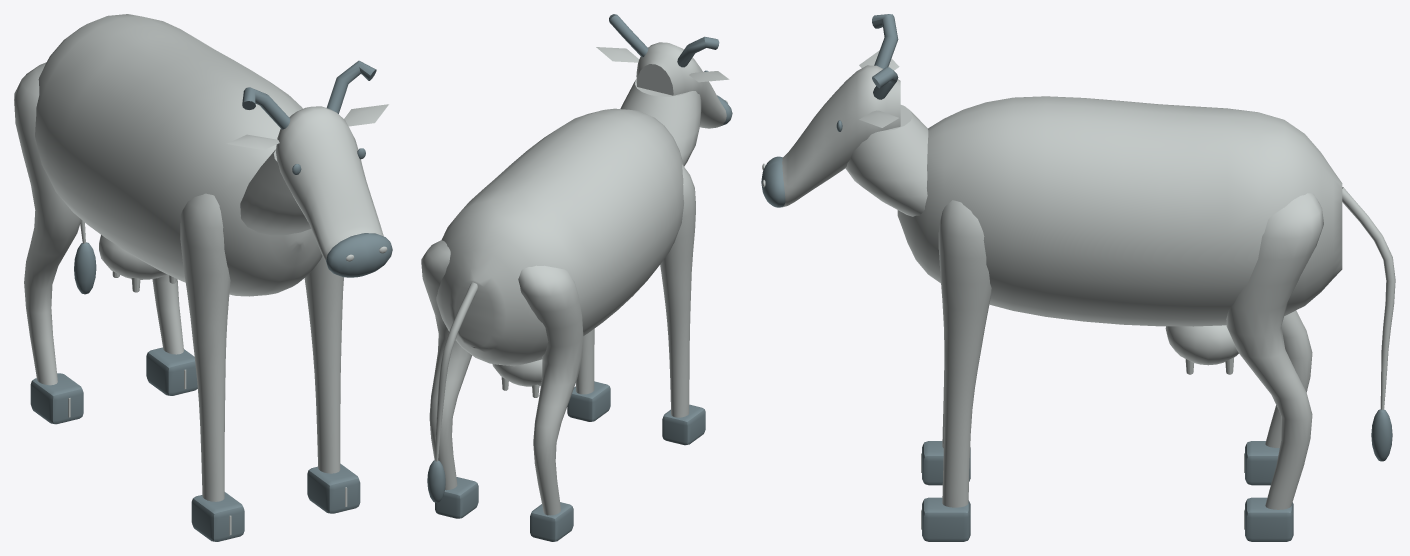
Rendered from cow.glb.
3 views of the same model, side by side, from view 1: azimuth 30°, elevation 25°; view 2: azimuth 150°, elevation 25°; view 3: azimuth 270°, elevation 25° (orthographic). The views are drawn at different scales.
Visible parts, largest first — view 1: broad_barrel, foreleg, long_face, hind_leg, foreleg.001, short_neck, broad_muzzle, cloven_hoof.001, cloven_hoof, cloven_hoof.002, cloven_hoof.003, hind_leg.001 (+6 smaller); view 2: broad_barrel, hind_leg, foreleg, hind_leg.001, long_face, short_neck, tail, cloven_hoof, cloven_hoof.001, cloven_hoof.003, cloven_hoof.002, foreleg.001 (+5 smaller); view 3: broad_barrel, hind_leg.001, foreleg.001, long_face, short_neck, udder, tail, hind_leg, cloven_hoof.002, cloven_hoof.003, cloven_hoof.001, cloven_hoof (+3 smaller).
Part boxes in pixels (x1,y1,x2,y2): broad_barrel: [35, 14, 322, 296]; foreleg: [180, 193, 230, 501]; long_face: [276, 106, 383, 263]; hind_leg: [14, 62, 81, 385]; foreleg.001: [304, 256, 343, 473]; short_neck: [240, 149, 311, 235]; broad_muzzle: [326, 233, 392, 277]; cloven_hoof.001: [30, 373, 83, 424]; cloven_hoof: [191, 492, 244, 541]; cloven_hoof.002: [307, 463, 360, 513]; cloven_hoof.003: [146, 347, 197, 395]; hind_leg.001: [152, 274, 183, 354]; broad_barrel: [436, 108, 683, 366]; hind_leg: [518, 265, 583, 515]; foreleg: [660, 164, 695, 417]; hind_leg.001: [421, 240, 471, 490]; long_face: [636, 42, 726, 128]; short_neck: [620, 79, 701, 166]; tail: [435, 282, 477, 461]; cloven_hoof: [662, 404, 705, 445]; cloven_hoof.001: [530, 502, 573, 541]; cloven_hoof.003: [435, 477, 478, 518]; cloven_hoof.002: [567, 381, 610, 421]; foreleg.001: [576, 329, 594, 394]; broad_barrel: [897, 96, 1342, 326]; hind_leg.001: [1226, 193, 1323, 509]; foreleg.001: [938, 200, 991, 507]; long_face: [782, 65, 900, 207]; short_neck: [845, 105, 928, 216]; udder: [1165, 325, 1238, 365]; tail: [1342, 187, 1395, 409]; hind_leg: [1265, 310, 1312, 447]; cloven_hoof.002: [922, 497, 970, 541]; cloven_hoof.003: [1245, 497, 1293, 541]; cloven_hoof.001: [1245, 441, 1279, 485]; cloven_hoof: [922, 441, 970, 485].
Size of the model in its own units: 0.7009 by 1.69 by 2.08.
